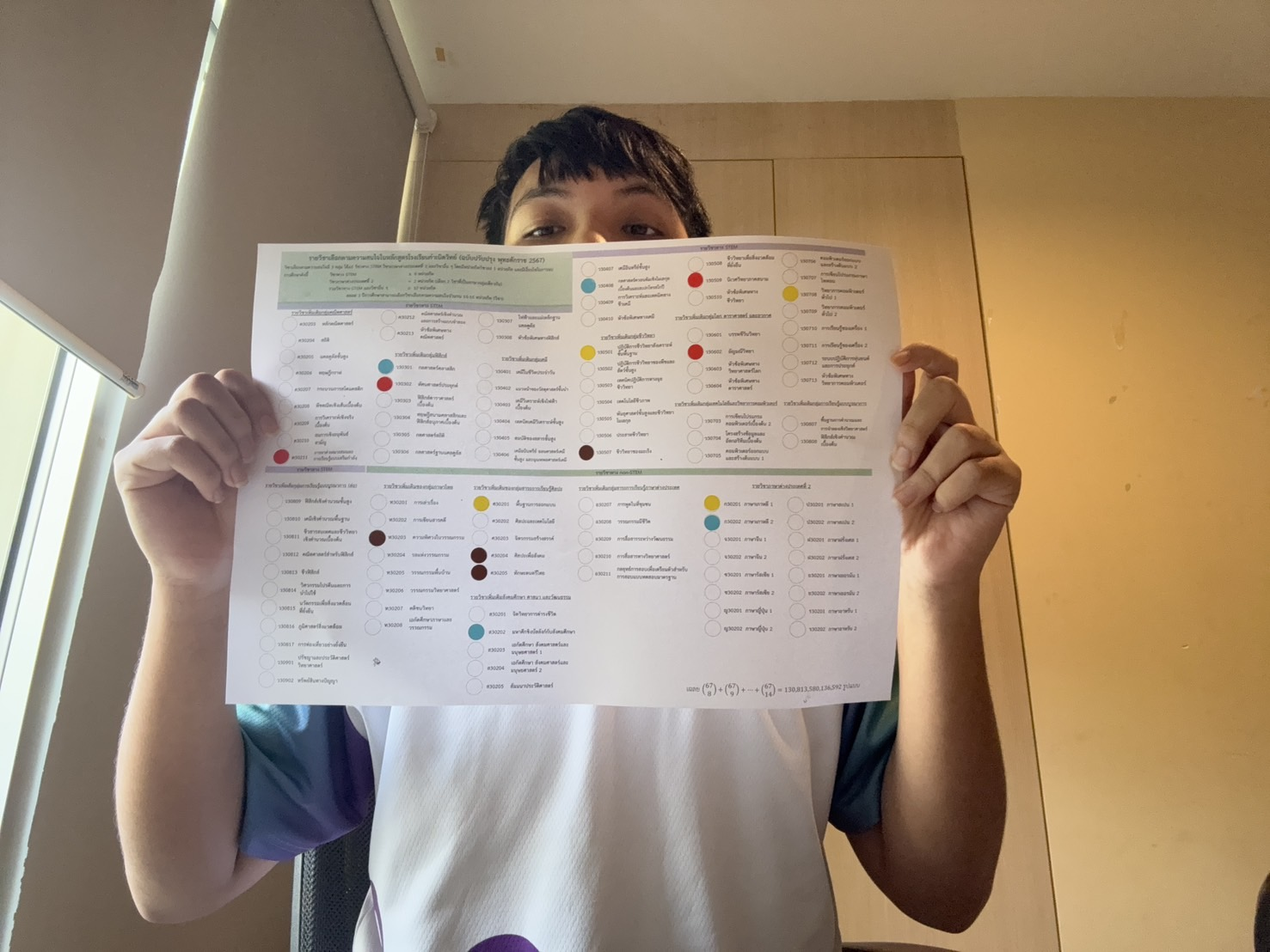paper: (226, 235, 906, 709)
